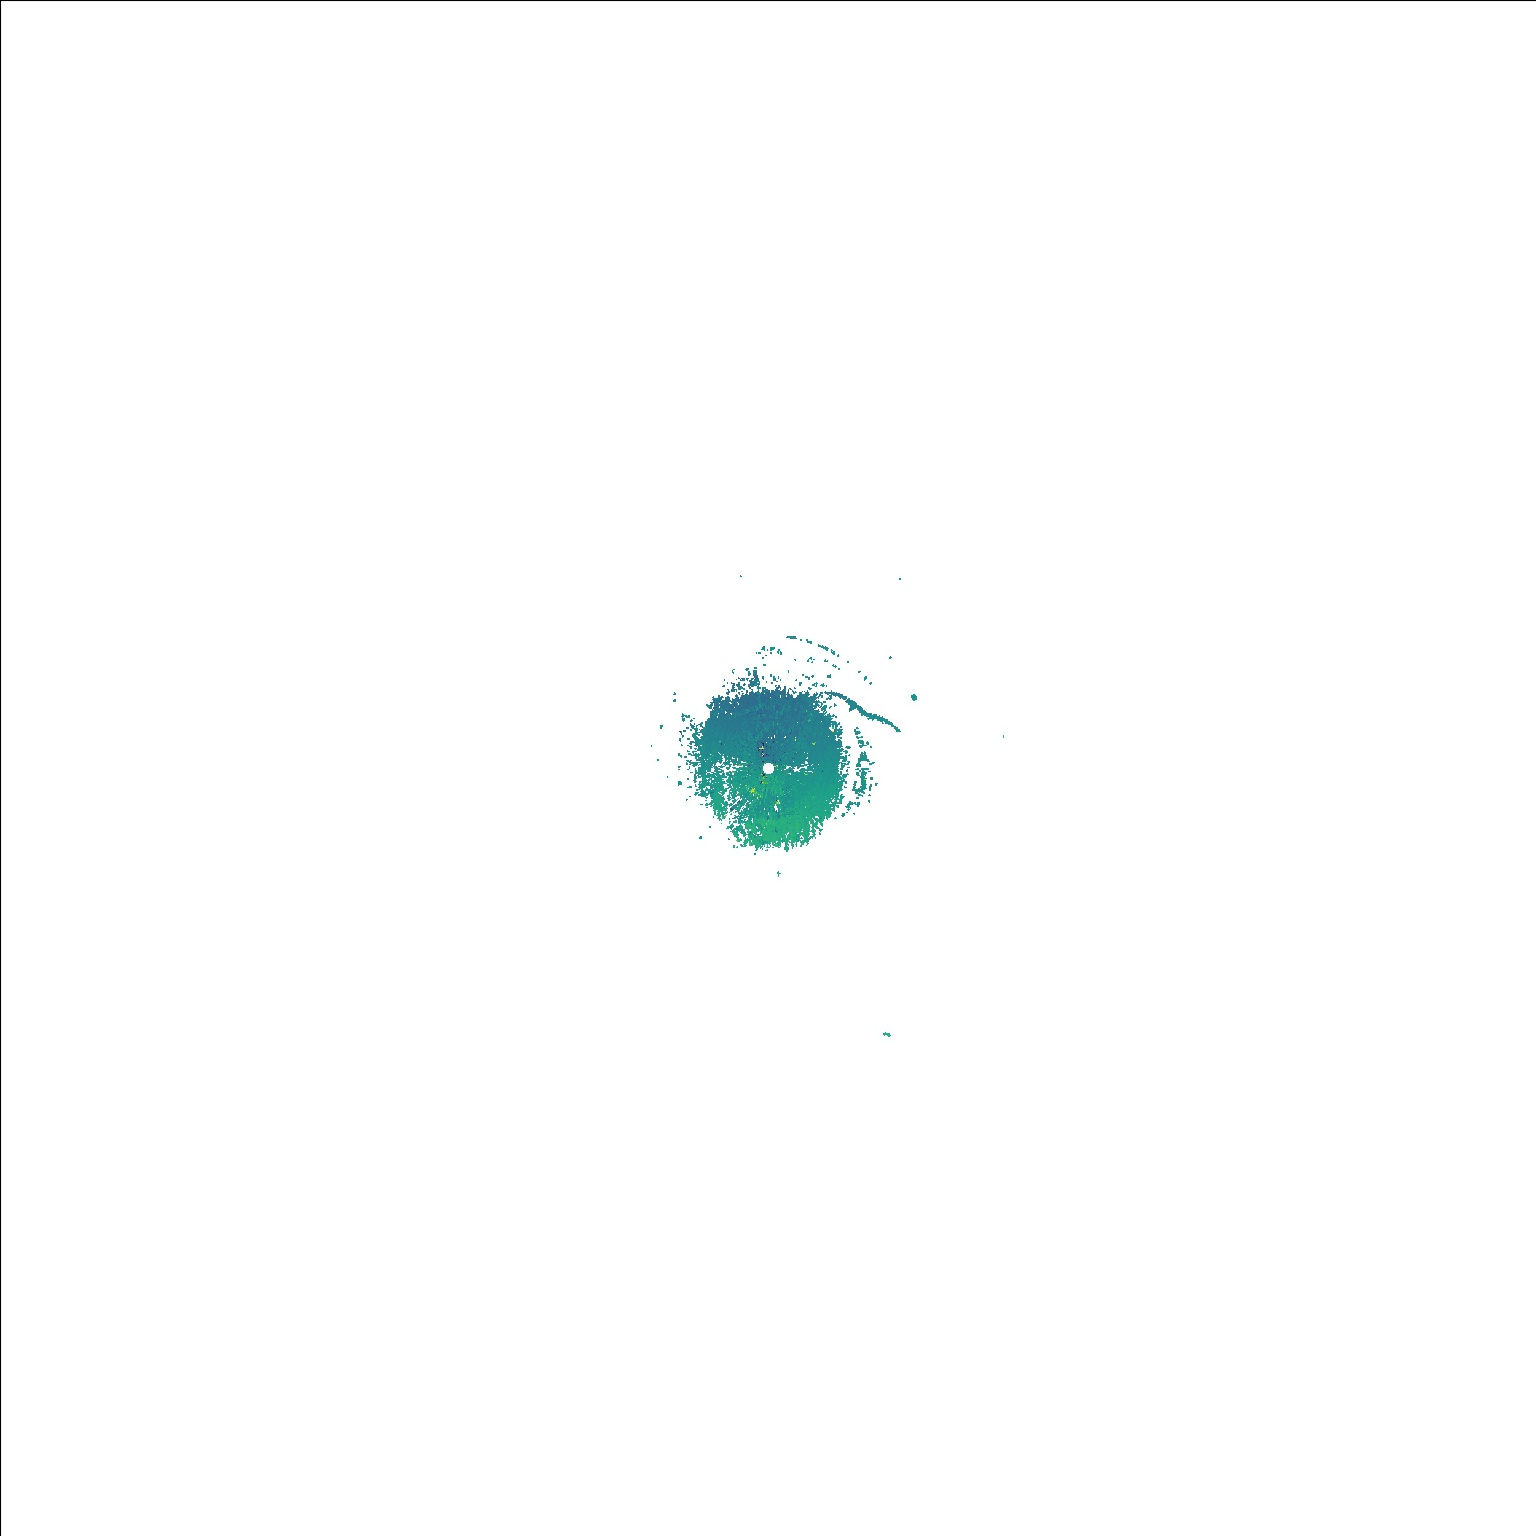fall: (878, 1025, 895, 1039)
